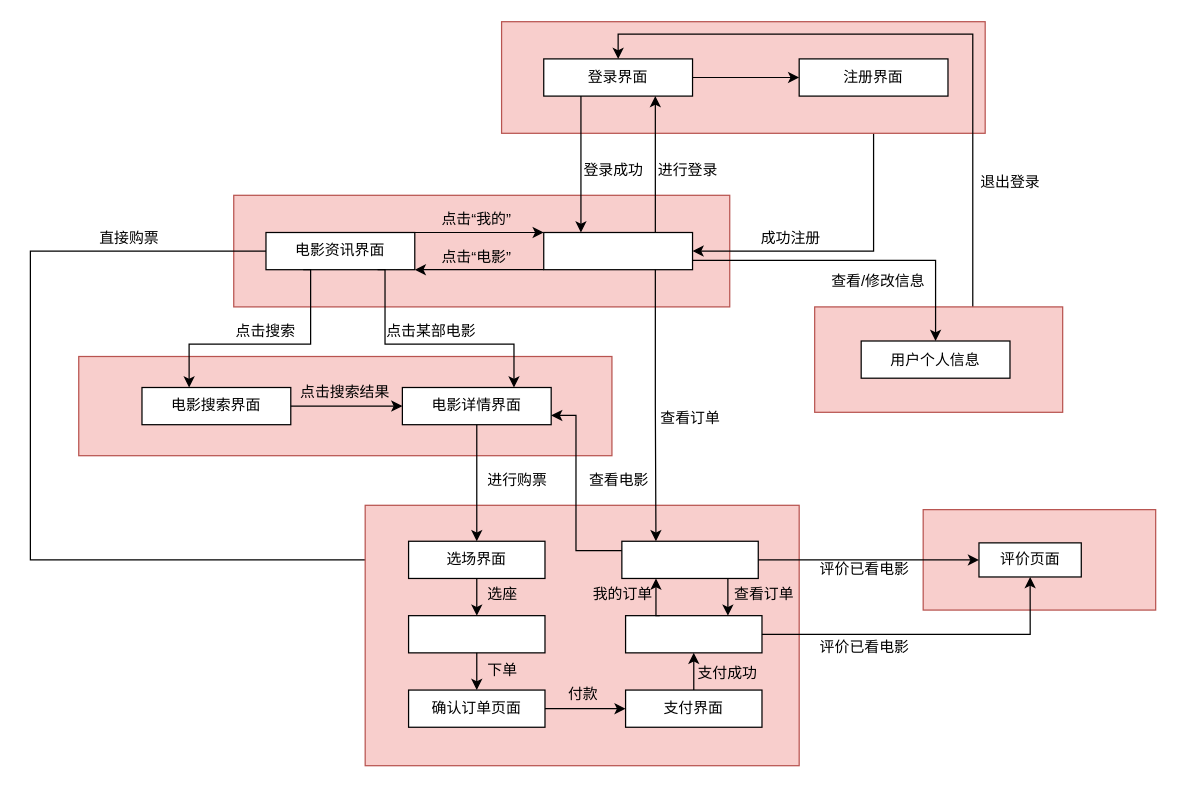
Some shapes in this 1178 by 787 pixel diagram are drawn without their labels. Here are the shapes that lost their labels. From the top down, the box of each, then its label:
(500, 20, 985, 133): 注册
(542, 231, 693, 270): 个人中心界面
(621, 540, 758, 578): 订单列表
(407, 614, 545, 653): 选座界面
(624, 614, 762, 653): 订单详细界面
